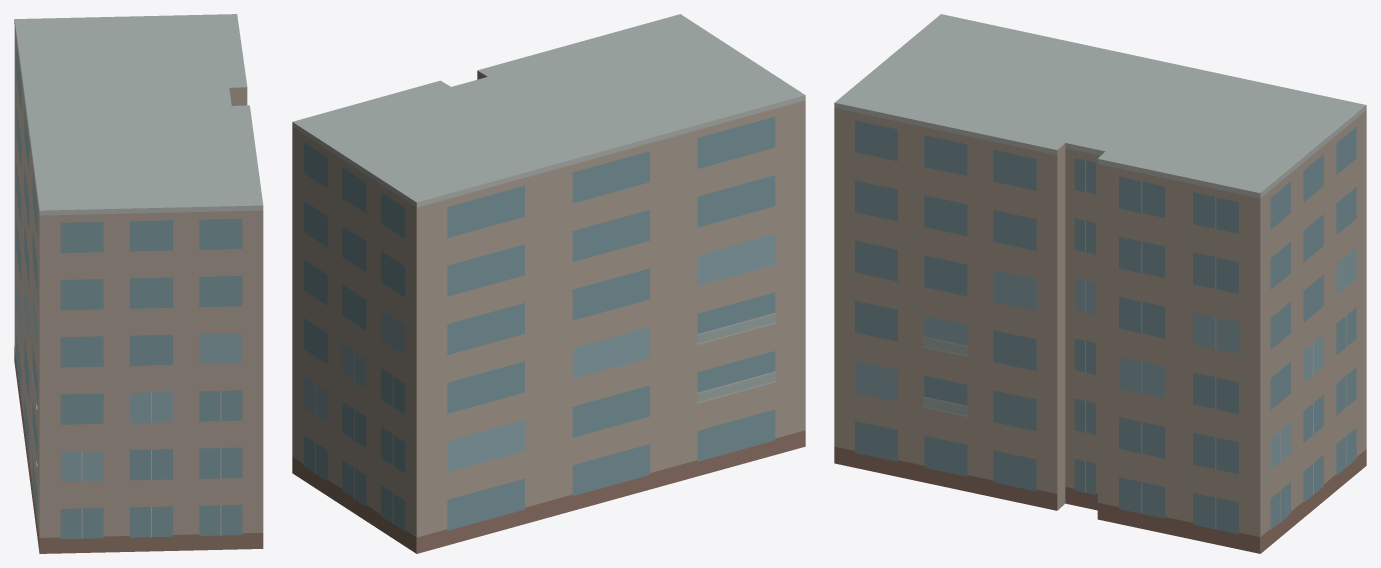
The model's file is survey-upis-32931035.glb.
3 views of the same model, side by side, from view 1: azimuth 30°, elevation 25°; view 2: azimuth 150°, elevation 25°; view 3: azimuth 270°, elevation 25° (orthographic). The views are drawn at different scales.
Visible parts, largest first — view 1: survey-upis-32931035.tmp; view 2: survey-upis-32931035.tmp; view 3: survey-upis-32931035.tmp.
Boxes of the visible parts, box(x1,y1,x2,y2) form: survey-upis-32931035.tmp: box(14, 14, 263, 553); survey-upis-32931035.tmp: box(292, 14, 805, 553); survey-upis-32931035.tmp: box(834, 14, 1366, 553).
Bounding box in the file's own units: 18.02 × 16.9 × 22.6.
